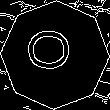O_E: (29, 33, 81, 77)
